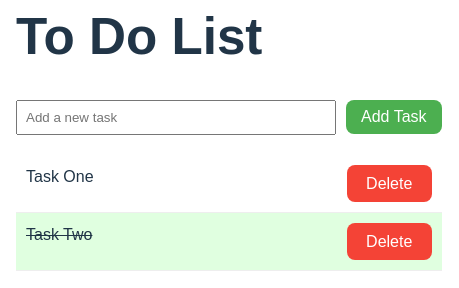
Test: App Component › deletes a task when delete button is clicked
Expected: the text "Task One" is shown, 26,168 -> 94,185
What coordinates should you click on to do the following:
click the button "Delete" in the row of "Task One"
I would click on:
 (389, 184)
Its box is 347,165 -> 432,202.
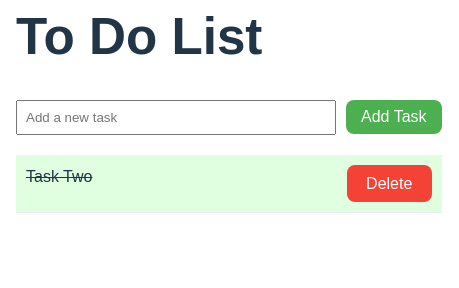
Now the text "Task One" is gone
